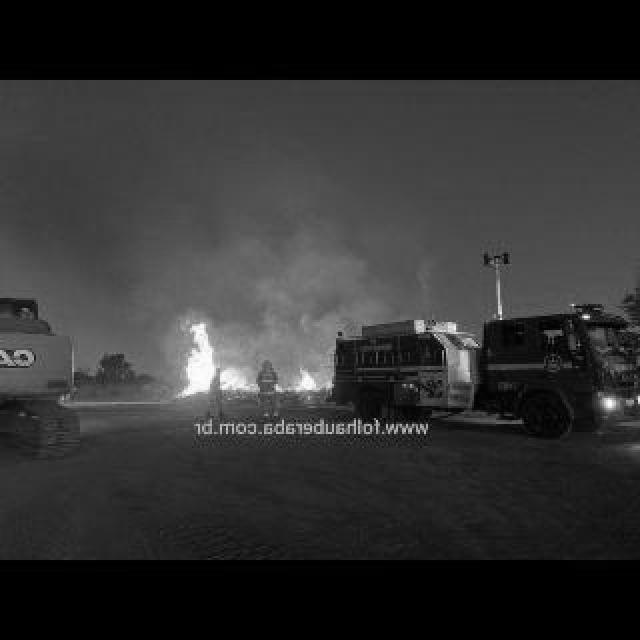Fire: (174, 316, 248, 396), (292, 366, 316, 390), (274, 386, 282, 394)
Smoke: (230, 198, 338, 366)
